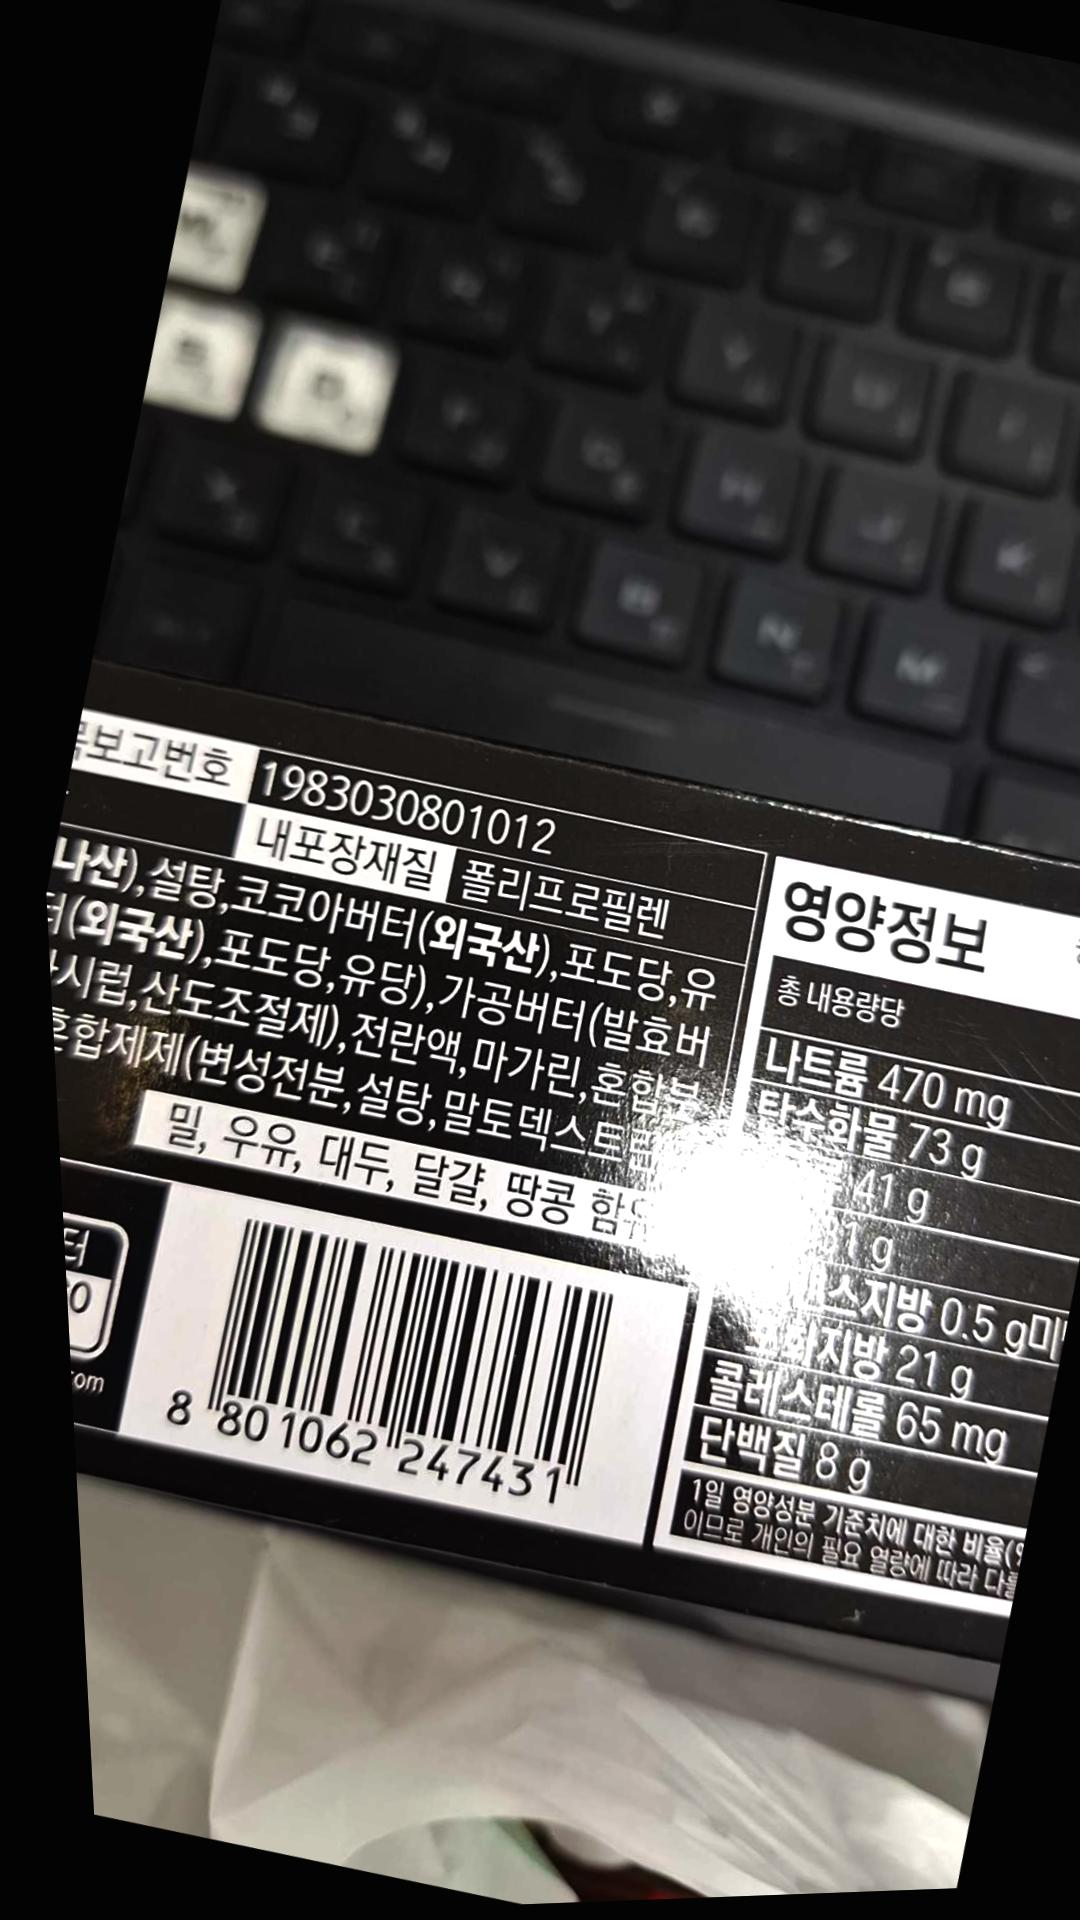chickchok-3400-2025-9-10: (99, 1180, 686, 1561)
